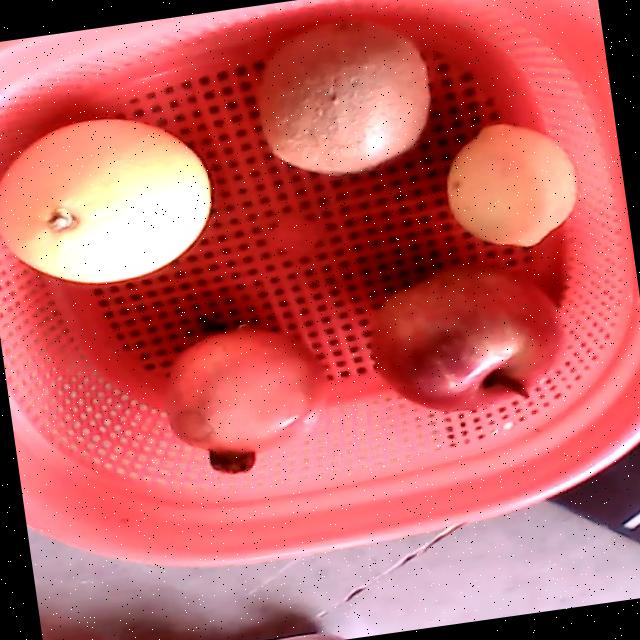apple: (368, 261, 565, 414)
kiwi: (258, 21, 430, 174)
lemon: (444, 123, 576, 248)
orange: (0, 117, 211, 284)
pomegranate: (165, 323, 328, 474)
